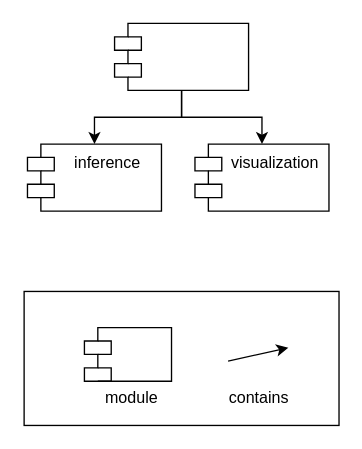
The diagram is 362 pixels wide and 449 high, and some of its shapes have lost their labels. Here are the shapes that lost their labels. From the top down, the box of each, then its label:
(113, 22, 249, 90): analysis
(23, 290, 339, 425): Keys
